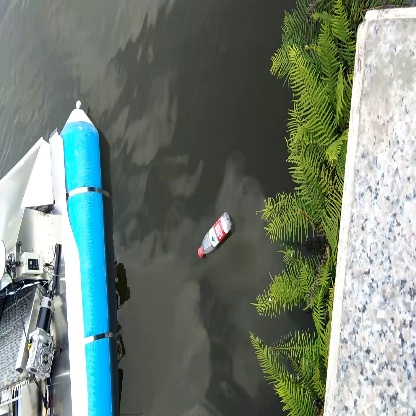bottle: (194, 210, 233, 260)
